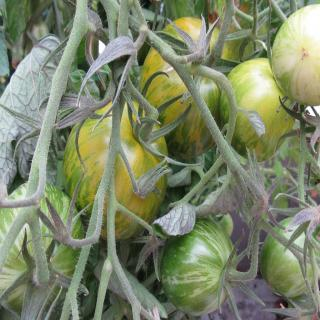Tomato: (62, 100, 172, 242), (142, 12, 236, 161), (0, 183, 83, 319), (225, 57, 295, 162), (160, 223, 238, 313), (258, 217, 320, 300), (270, 5, 320, 107)
